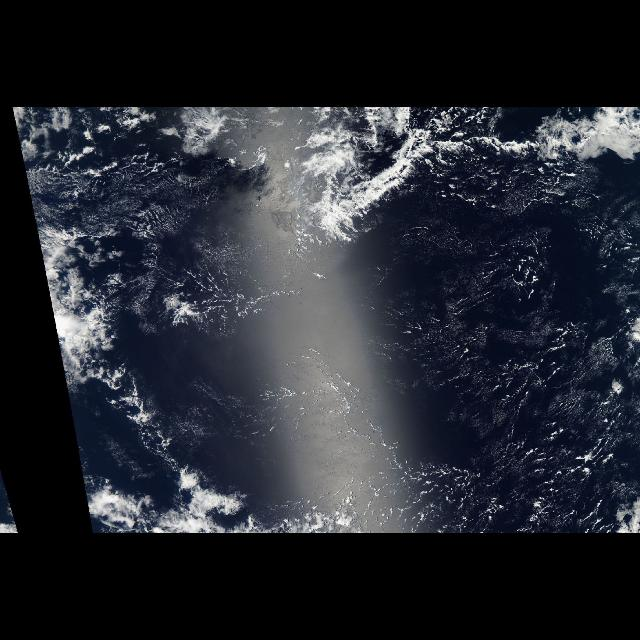Sugar: (383, 227, 612, 516)
